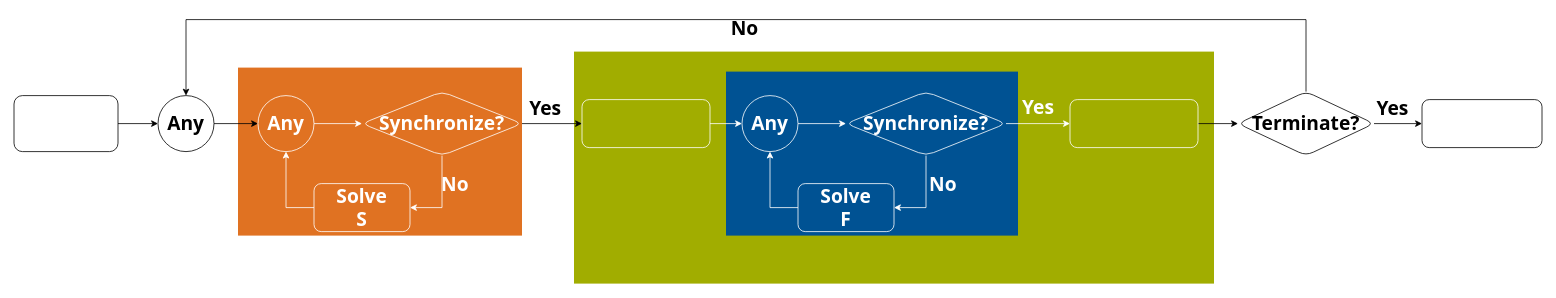
This 1556x298 diagram has some shape labels left out. Here are the shapes that lost their labels. From the top down, the centre of each, then its label:
At (x=65, y=123): "Preprocess".
At (x=645, y=123): "Transfer S => F".
At (x=1133, y=123): "Transfer F => S".
At (x=1481, y=123): "Postprocess".
